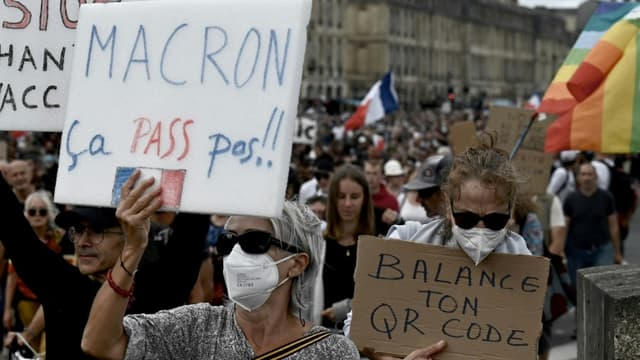with_mask: (213, 227, 311, 311), (442, 188, 516, 263)
without_mask: (63, 222, 121, 274), (329, 183, 370, 223)
